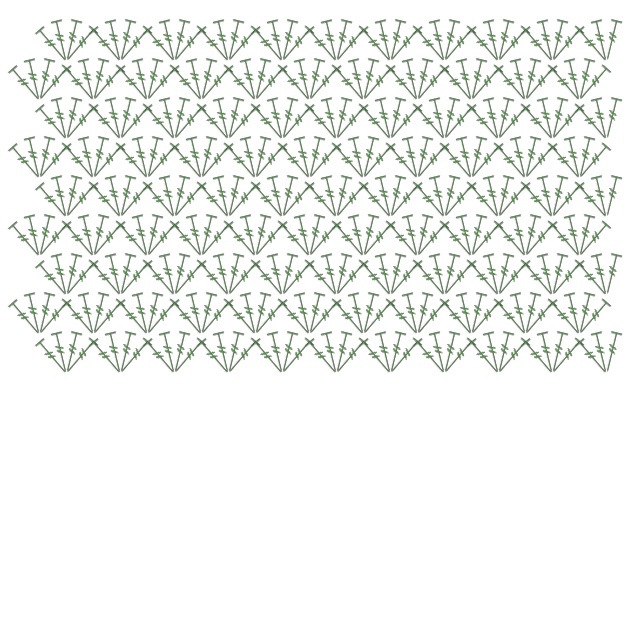fan: (33, 24, 73, 67), (61, 24, 101, 67), (87, 24, 127, 67), (115, 24, 155, 67), (141, 24, 181, 67), (169, 24, 209, 67), (195, 24, 235, 67), (223, 24, 263, 67), (249, 24, 289, 67), (277, 24, 317, 67), (303, 24, 343, 67), (331, 24, 371, 67), (357, 24, 397, 67), (385, 24, 425, 67), (411, 24, 451, 67), (439, 24, 479, 67), (465, 24, 505, 67), (493, 24, 533, 67), (519, 24, 559, 67), (547, 24, 587, 67), (573, 24, 613, 67), (6, 63, 46, 106), (34, 63, 74, 106), (60, 63, 100, 106), (88, 63, 128, 106), (114, 63, 154, 106), (142, 63, 182, 106), (168, 63, 208, 106), (196, 63, 236, 106), (222, 63, 262, 106), (250, 63, 290, 106), (276, 63, 316, 106), (304, 63, 344, 106), (330, 63, 370, 106), (358, 63, 398, 106), (384, 63, 424, 106), (412, 63, 452, 106), (438, 63, 478, 106), (466, 63, 506, 106), (492, 63, 532, 106), (520, 63, 560, 106), (546, 63, 586, 106), (574, 63, 614, 106), (33, 102, 73, 145), (61, 102, 101, 145), (87, 102, 127, 145), (115, 102, 155, 145), (141, 102, 181, 145), (169, 102, 209, 145), (195, 102, 235, 145), (223, 102, 263, 145), (249, 102, 289, 145), (277, 102, 317, 145), (303, 102, 343, 145), (331, 102, 371, 145), (357, 102, 397, 145), (385, 102, 425, 145), (411, 102, 451, 145), (439, 102, 479, 145), (465, 102, 505, 145), (493, 102, 533, 145), (519, 102, 559, 145), (547, 102, 587, 145), (573, 102, 613, 145), (6, 141, 46, 184), (34, 141, 74, 184), (60, 141, 100, 184), (88, 141, 128, 184), (114, 141, 154, 184), (142, 141, 182, 184), (168, 141, 208, 184), (196, 141, 236, 184), (222, 141, 262, 184), (250, 141, 290, 184), (276, 141, 316, 184), (304, 141, 344, 184), (330, 141, 370, 184), (358, 141, 398, 184), (384, 141, 424, 184), (412, 141, 452, 184), (438, 141, 478, 184), (466, 141, 506, 184), (492, 141, 532, 184), (520, 141, 560, 184), (546, 141, 586, 184), (574, 141, 614, 184), (33, 180, 73, 223), (61, 180, 101, 223), (87, 180, 127, 223), (115, 180, 155, 223), (141, 180, 181, 223), (169, 180, 209, 223), (195, 180, 235, 223), (223, 180, 263, 223), (249, 180, 289, 223), (277, 180, 317, 223), (303, 180, 343, 223), (331, 180, 371, 223), (357, 180, 397, 223), (385, 180, 425, 223), (411, 180, 451, 223), (439, 180, 479, 223), (465, 180, 505, 223), (493, 180, 533, 223), (519, 180, 559, 223), (547, 180, 587, 223), (573, 180, 613, 223), (6, 219, 46, 262), (34, 219, 74, 262), (60, 219, 100, 262), (88, 219, 128, 262), (114, 219, 154, 262), (142, 219, 182, 262), (168, 219, 208, 262), (196, 219, 236, 262), (222, 219, 262, 262), (250, 219, 290, 262), (276, 219, 316, 262), (304, 219, 344, 262), (330, 219, 370, 262), (358, 219, 398, 262), (384, 219, 424, 262), (412, 219, 452, 262), (438, 219, 478, 262), (466, 219, 506, 262), (492, 219, 532, 262), (520, 219, 560, 262), (546, 219, 586, 262), (574, 219, 614, 262), (33, 258, 73, 301), (61, 258, 101, 301), (87, 258, 127, 301), (115, 258, 155, 301), (141, 258, 181, 301), (169, 258, 209, 301), (195, 258, 235, 301), (223, 258, 263, 301), (249, 258, 289, 301), (277, 258, 317, 301), (303, 258, 343, 301), (331, 258, 371, 301), (357, 258, 397, 301), (385, 258, 425, 301), (411, 258, 451, 301), (439, 258, 479, 301), (465, 258, 505, 301), (493, 258, 533, 301), (519, 258, 559, 301), (547, 258, 587, 301), (573, 258, 613, 301), (6, 297, 46, 340), (34, 297, 74, 340), (60, 297, 100, 340), (88, 297, 128, 340), (114, 297, 154, 340), (142, 297, 182, 340), (168, 297, 208, 340), (196, 297, 236, 340), (222, 297, 262, 340), (250, 297, 290, 340), (276, 297, 316, 340), (304, 297, 344, 340), (330, 297, 370, 340), (358, 297, 398, 340), (384, 297, 424, 340), (412, 297, 452, 340), (438, 297, 478, 340), (466, 297, 506, 340), (492, 297, 532, 340), (520, 297, 560, 340), (546, 297, 586, 340), (574, 297, 614, 340), (33, 336, 73, 379), (61, 336, 101, 379), (87, 336, 127, 379), (115, 336, 155, 379), (141, 336, 181, 379), (169, 336, 209, 379), (195, 336, 235, 379), (223, 336, 263, 379), (249, 336, 289, 379), (277, 336, 317, 379), (303, 336, 343, 379), (331, 336, 371, 379), (357, 336, 397, 379), (385, 336, 425, 379), (411, 336, 451, 379), (439, 336, 479, 379), (465, 336, 505, 379), (493, 336, 533, 379), (519, 336, 559, 379), (547, 336, 587, 379), (573, 336, 613, 379), (49, 17, 74, 64), (60, 17, 85, 64), (103, 17, 128, 64), (114, 17, 139, 64), (157, 17, 182, 64), (168, 17, 193, 64), (211, 17, 236, 64), (222, 17, 247, 64), (265, 17, 290, 64), (276, 17, 301, 64), (319, 17, 344, 64), (330, 17, 355, 64), (373, 17, 398, 64), (384, 17, 409, 64), (427, 17, 452, 64), (438, 17, 463, 64), (481, 17, 506, 64), (492, 17, 517, 64), (535, 17, 560, 64), (546, 17, 571, 64), (589, 17, 614, 64), (600, 17, 625, 64), (22, 56, 47, 103), (33, 56, 58, 103), (76, 56, 101, 103), (87, 56, 112, 103), (130, 56, 155, 103), (141, 56, 166, 103), (184, 56, 209, 103), (195, 56, 220, 103), (238, 56, 263, 103), (249, 56, 274, 103), (292, 56, 317, 103), (303, 56, 328, 103), (346, 56, 371, 103), (357, 56, 382, 103), (400, 56, 425, 103), (411, 56, 436, 103), (454, 56, 479, 103), (465, 56, 490, 103), (508, 56, 533, 103), (519, 56, 544, 103), (562, 56, 587, 103), (573, 56, 598, 103), (49, 95, 74, 142), (60, 95, 85, 142), (103, 95, 128, 142), (114, 95, 139, 142), (157, 95, 182, 142), (168, 95, 193, 142), (211, 95, 236, 142), (222, 95, 247, 142), (265, 95, 290, 142), (276, 95, 301, 142), (319, 95, 344, 142), (330, 95, 355, 142), (373, 95, 398, 142), (384, 95, 409, 142), (427, 95, 452, 142), (438, 95, 463, 142), (481, 95, 506, 142), (492, 95, 517, 142), (535, 95, 560, 142), (546, 95, 571, 142), (589, 95, 614, 142), (600, 95, 625, 142), (22, 134, 47, 181), (33, 134, 58, 181), (76, 134, 101, 181), (87, 134, 112, 181), (130, 134, 155, 181), (141, 134, 166, 181), (184, 134, 209, 181), (195, 134, 220, 181), (238, 134, 263, 181), (249, 134, 274, 181), (292, 134, 317, 181), (303, 134, 328, 181), (346, 134, 371, 181), (357, 134, 382, 181), (400, 134, 425, 181), (411, 134, 436, 181), (454, 134, 479, 181), (465, 134, 490, 181), (508, 134, 533, 181), (519, 134, 544, 181), (562, 134, 587, 181), (573, 134, 598, 181), (49, 173, 74, 220), (60, 173, 85, 220), (103, 173, 128, 220), (114, 173, 139, 220), (157, 173, 182, 220), (168, 173, 193, 220), (211, 173, 236, 220), (222, 173, 247, 220), (265, 173, 290, 220), (276, 173, 301, 220), (319, 173, 344, 220), (330, 173, 355, 220), (373, 173, 398, 220), (384, 173, 409, 220), (427, 173, 452, 220), (438, 173, 463, 220), (481, 173, 506, 220), (492, 173, 517, 220), (535, 173, 560, 220), (546, 173, 571, 220), (589, 173, 614, 220), (600, 173, 625, 220), (22, 212, 47, 259), (33, 212, 58, 259), (76, 212, 101, 259), (87, 212, 112, 259), (130, 212, 155, 259), (141, 212, 166, 259), (184, 212, 209, 259), (195, 212, 220, 259), (238, 212, 263, 259), (249, 212, 274, 259), (292, 212, 317, 259), (303, 212, 328, 259), (346, 212, 371, 259), (357, 212, 382, 259), (400, 212, 425, 259), (411, 212, 436, 259), (454, 212, 479, 259), (465, 212, 490, 259), (508, 212, 533, 259), (519, 212, 544, 259), (562, 212, 587, 259), (573, 212, 598, 259), (49, 251, 74, 298), (60, 251, 85, 298), (103, 251, 128, 298), (114, 251, 139, 298), (157, 251, 182, 298), (168, 251, 193, 298), (211, 251, 236, 298), (222, 251, 247, 298), (265, 251, 290, 298), (276, 251, 301, 298), (319, 251, 344, 298), (330, 251, 355, 298), (373, 251, 398, 298), (384, 251, 409, 298), (427, 251, 452, 298), (438, 251, 463, 298), (481, 251, 506, 298), (492, 251, 517, 298), (535, 251, 560, 298), (546, 251, 571, 298), (589, 251, 614, 298), (600, 251, 625, 298), (22, 290, 47, 337), (33, 290, 58, 337), (76, 290, 101, 337), (87, 290, 112, 337), (130, 290, 155, 337), (141, 290, 166, 337), (184, 290, 209, 337), (195, 290, 220, 337), (238, 290, 263, 337), (249, 290, 274, 337), (292, 290, 317, 337), (303, 290, 328, 337), (346, 290, 371, 337), (357, 290, 382, 337), (400, 290, 425, 337), (411, 290, 436, 337), (454, 290, 479, 337), (465, 290, 490, 337), (508, 290, 533, 337), (519, 290, 544, 337), (562, 290, 587, 337), (573, 290, 598, 337), (49, 329, 74, 376), (60, 329, 85, 376), (103, 329, 128, 376), (114, 329, 139, 376), (157, 329, 182, 376), (168, 329, 193, 376), (211, 329, 236, 376), (222, 329, 247, 376), (265, 329, 290, 376), (276, 329, 301, 376), (319, 329, 344, 376), (330, 329, 355, 376), (373, 329, 398, 376), (384, 329, 409, 376), (427, 329, 452, 376), (438, 329, 463, 376), (481, 329, 506, 376), (492, 329, 517, 376), (535, 329, 560, 376), (546, 329, 571, 376), (589, 329, 614, 376), (600, 329, 625, 376)
